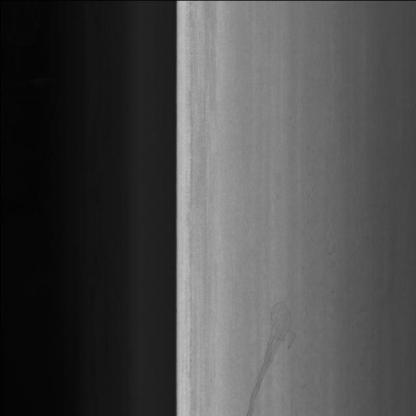water_spot: (242, 278, 314, 415)
